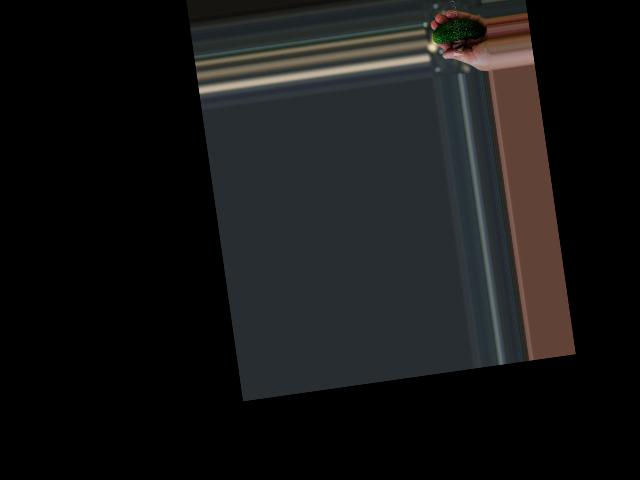cucumber: (431, 15, 485, 44)
